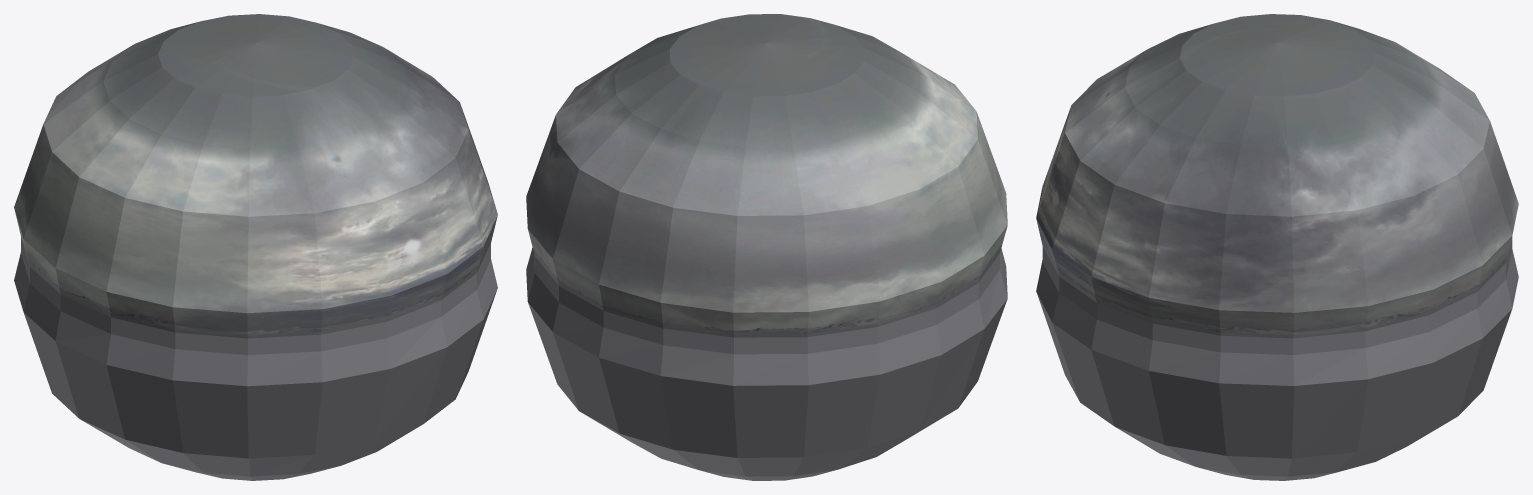
The model's file is SKY_C1RACEAGAINSTTIME_H.bgf.obj.
3 views of the same model, side by side, from view 1: azimuth 30°, elevation 25°; view 2: azimuth 150°, elevation 25°; view 3: azimuth 270°, elevation 25° (orthographic).
Parts seen in each view (by area): view 1: SKY_C1RACEAGAINSTTIME; view 2: SKY_C1RACEAGAINSTTIME; view 3: SKY_C1RACEAGAINSTTIME.
Part boxes in pixels (x1,y1,x2,y2): SKY_C1RACEAGAINSTTIME: (14, 14, 497, 480); SKY_C1RACEAGAINSTTIME: (526, 14, 1007, 480); SKY_C1RACEAGAINSTTIME: (1036, 14, 1518, 480).
Bounding box in the file's own units: 0.604 × 0.565 × 0.604.
4 materials, 4 textured.
